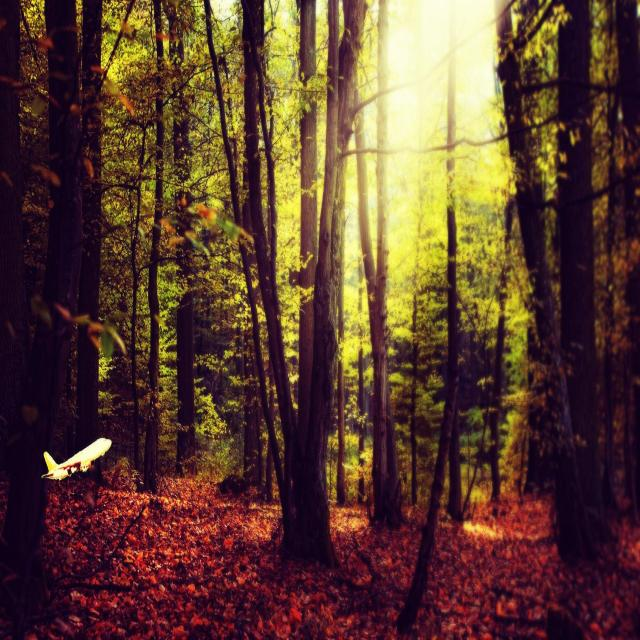airplane: (41, 436, 112, 481)
